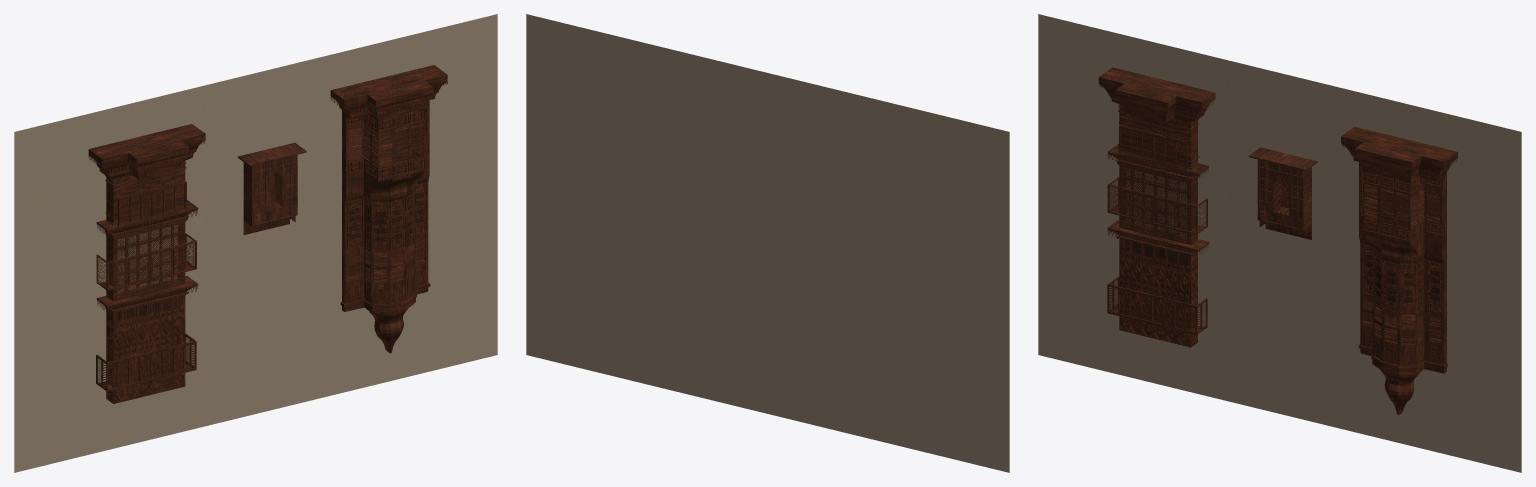
3 renders of one model, left to right at view 1: azimuth 30°, elevation 25°; view 2: azimuth 150°, elevation 25°; view 3: azimuth 330°, elevation 25°, orthographic.
Visible parts, largest first — view 1: SAU_002_M3_Windows; view 2: SAU_002_M3_Windows; view 3: SAU_002_M3_Windows.
Boxes of the visible parts, x1=… form: SAU_002_M3_Windows: x1=14, y1=14, x2=497, y2=472; SAU_002_M3_Windows: x1=526, y1=14, x2=1009, y2=472; SAU_002_M3_Windows: x1=1038, y1=14, x2=1521, y2=472.
Bounding box in the file's own units: 12.81 × 8.63 × 1.03.
Materials: 6 (4 with a texture image).
